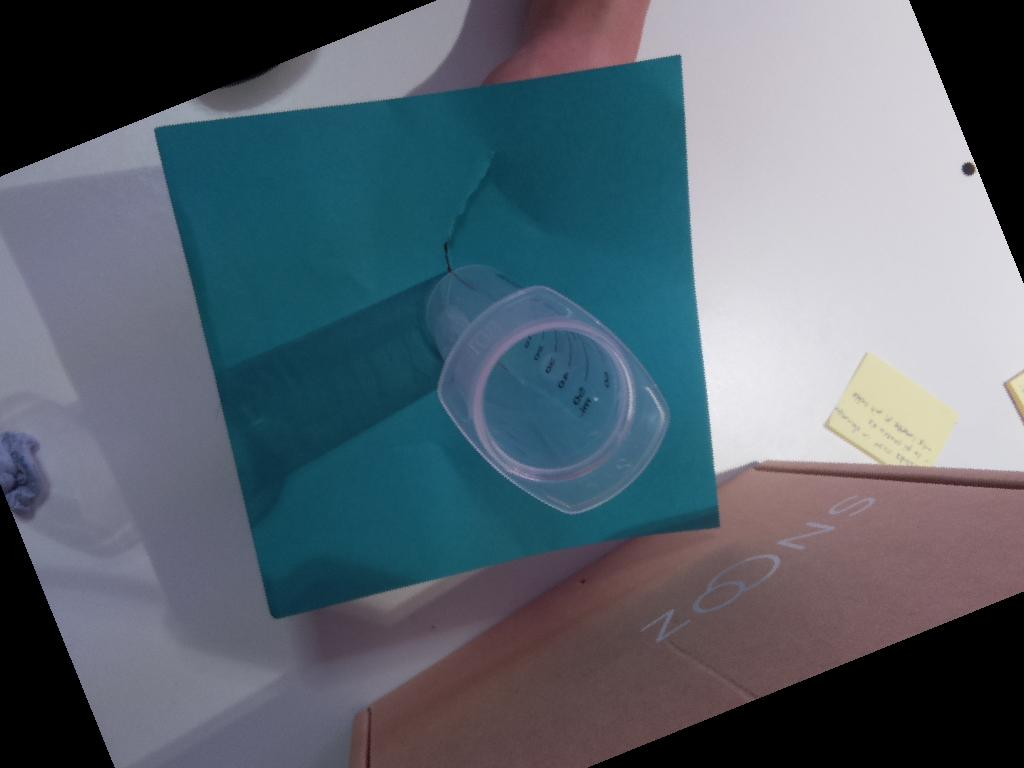clean: (433, 286, 674, 517)
